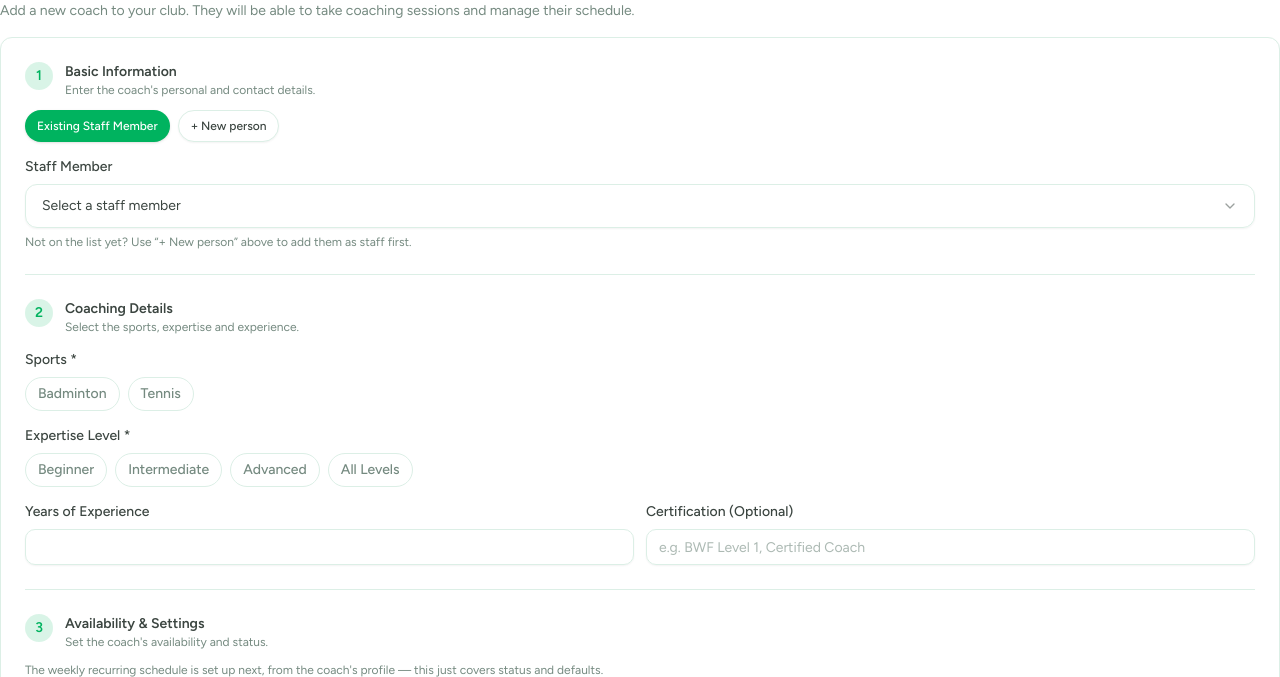
AddCoachPage › shows the service error and does not advance to the success screen when addCoach fails
Click the dropdown labelled "Select a staff member": {"x": 111, "y": 206} [25,184,1255,228]
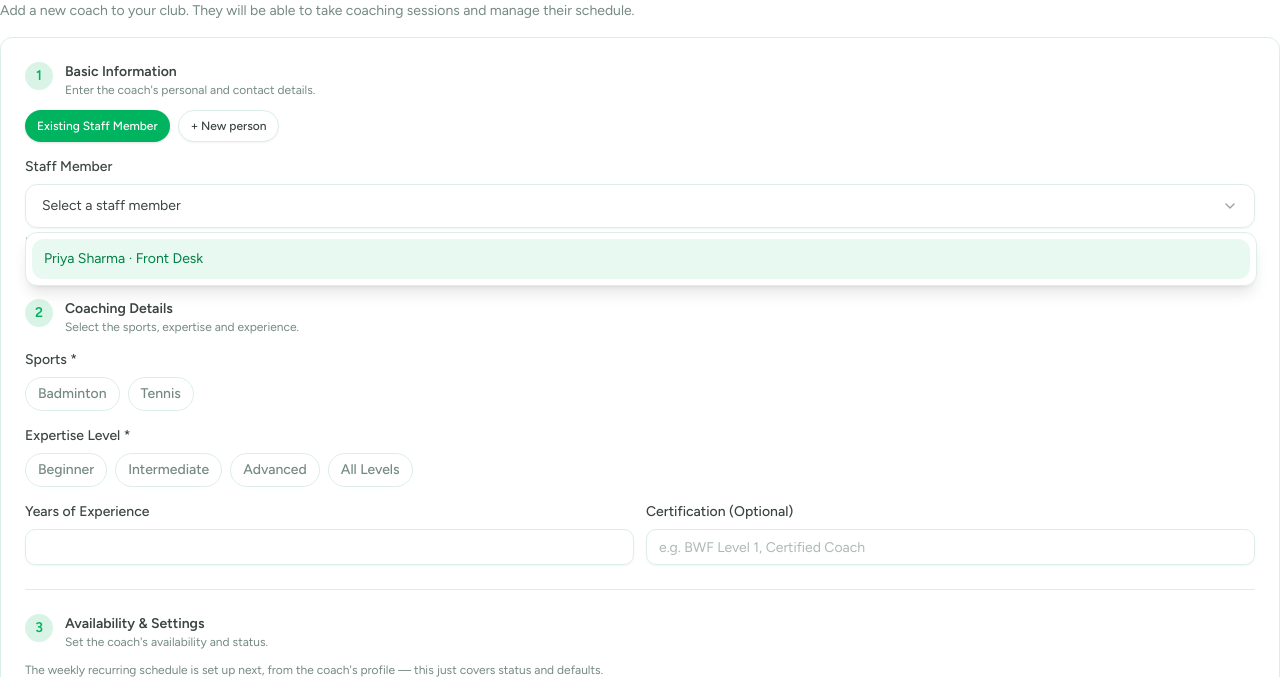
Click the option "Priya Sharma · Front Desk": {"x": 85, "y": 258} [32,239,1250,279]
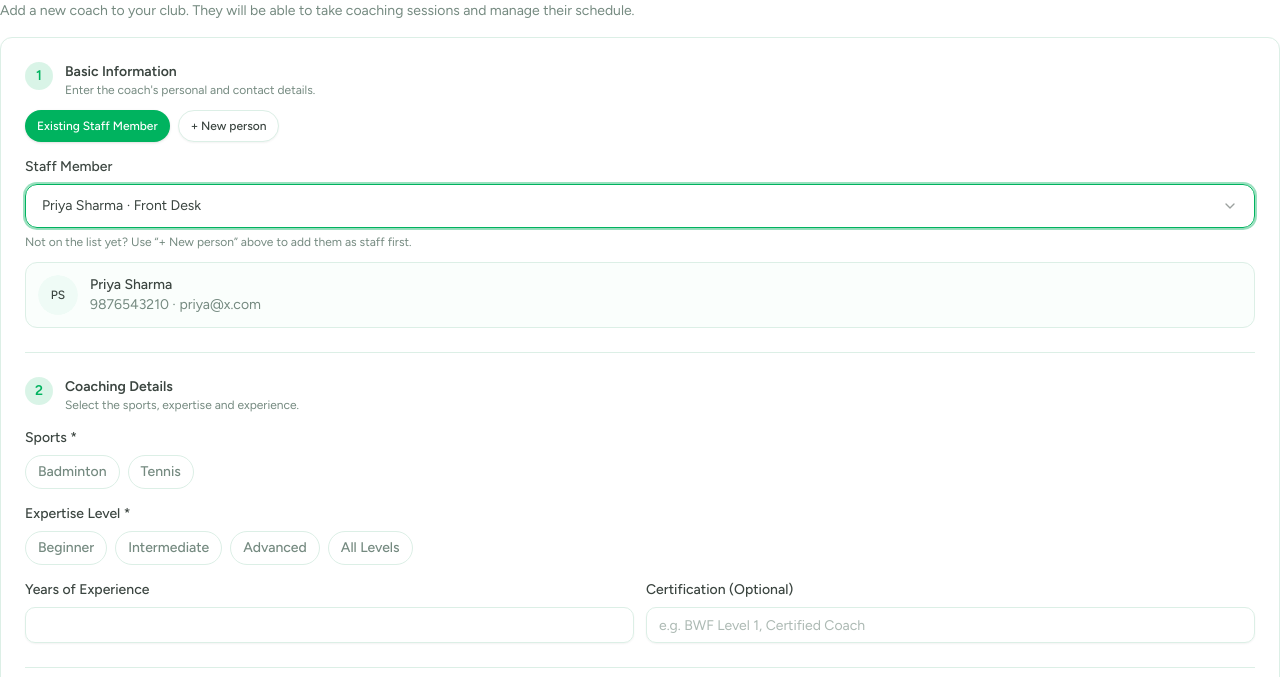
Click the button "Badminton": {"x": 72, "y": 472} [25,455,120,489]
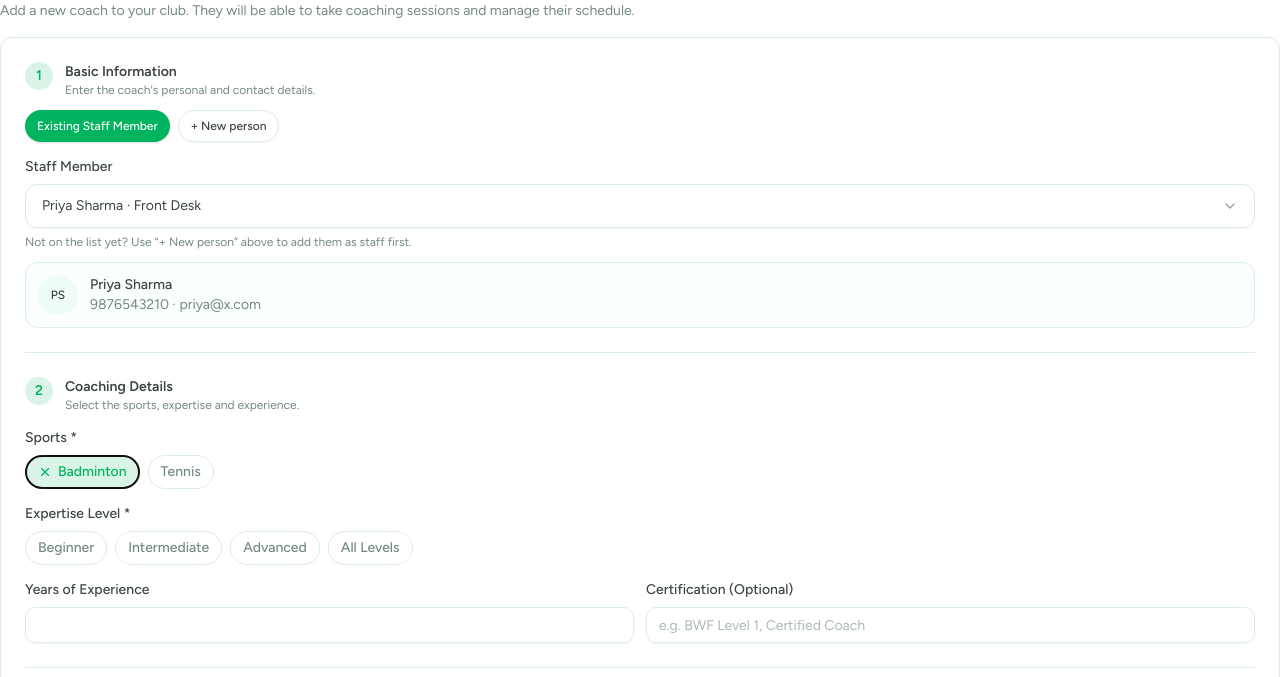
Click the button "Beginner": {"x": 66, "y": 548} [25,531,107,565]
(page scrolled)
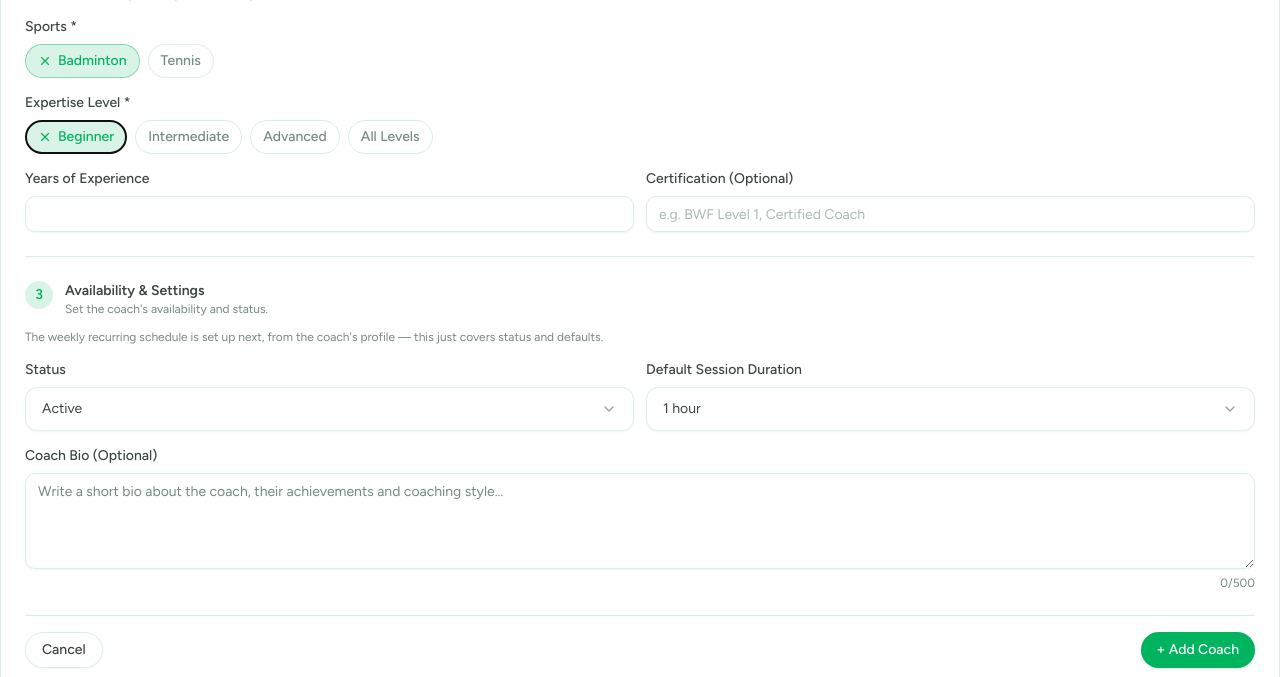
Click the button "+ Add Coach": {"x": 1198, "y": 650} [1140,632,1255,668]
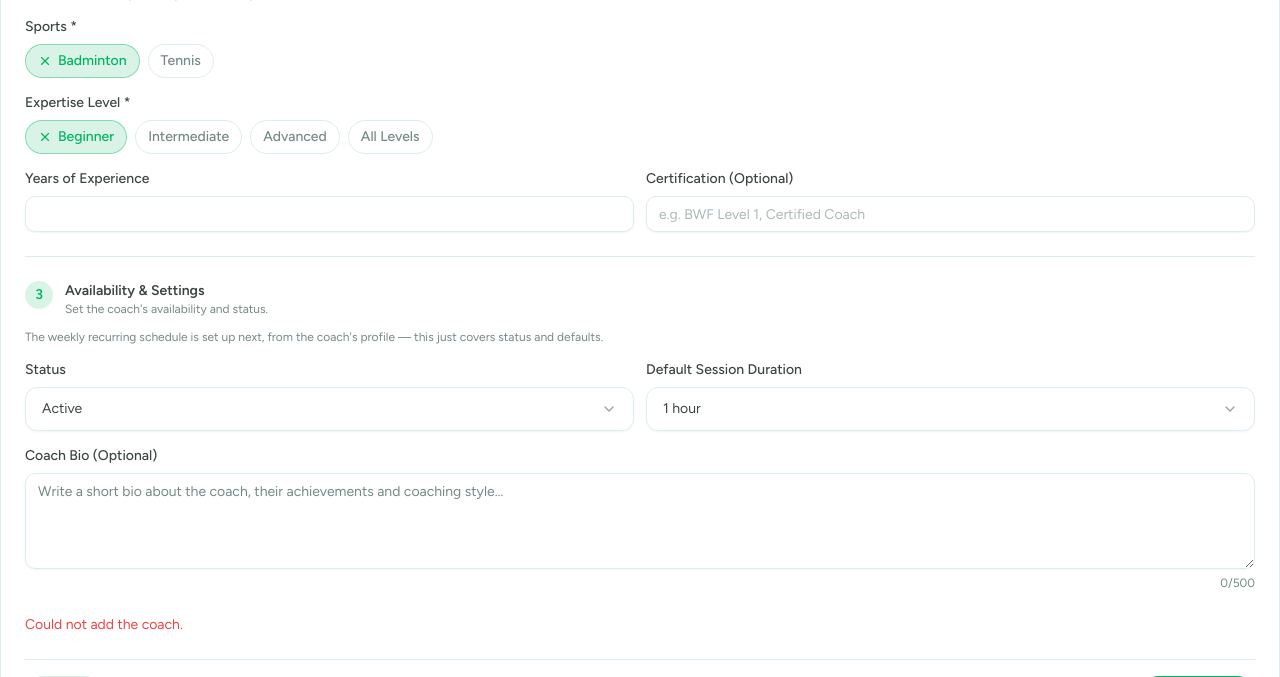
Check: the text "Could not add the coach." is shown, box [25,616,183,633]
